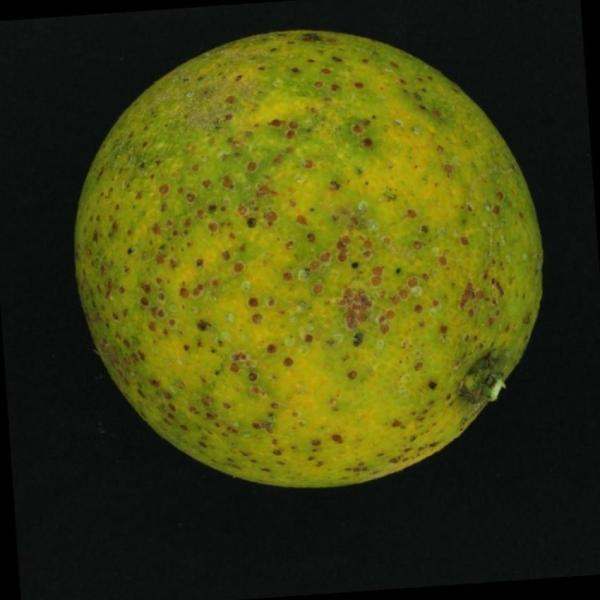Greening: (62, 22, 555, 497)
